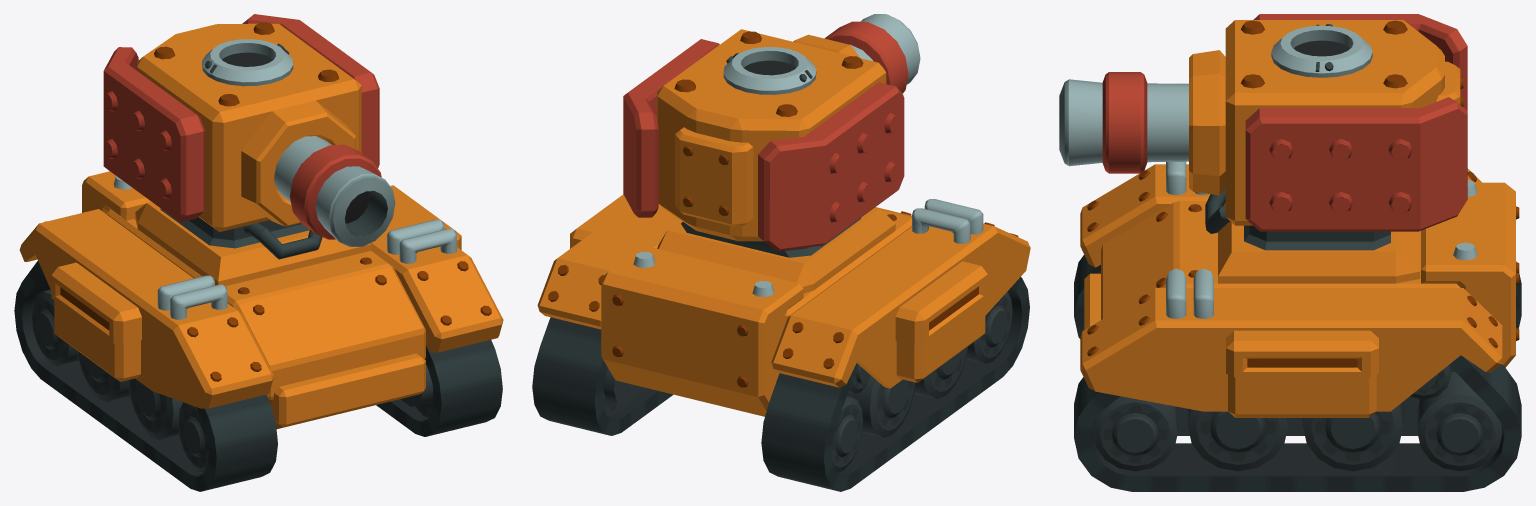
Rendered from TA_Heavy_01.fbx.
3 views of the same model, side by side, from view 1: azimuth 30°, elevation 25°; view 2: azimuth 150°, elevation 25°; view 3: azimuth 270°, elevation 25° (orthographic). The views are drawn at different scales.
Parts seen in each view (by area): view 1: TA_Heavy_01_Wheel_Armor, TA_Heavy_01_Turret_Armor, TA_Heavy_01_Body, TA_Heavy_01_Turret_Cannon, TA_Heavy_01_Wheel_02_R, TA_Heavy_01_Wheel_04_R, TA_Heavy_01_Wheel_01_R, TA_Heavy_01_Wheel_03_R; view 2: TA_Heavy_01_Wheel_Armor, TA_Heavy_01_Turret_Armor, TA_Heavy_01_Body, TA_Heavy_01_Turret_Cannon, TA_Heavy_01_Wheel_03_R, TA_Heavy_01_Wheel_01_R, TA_Heavy_01_Wheel_04_R, TA_Heavy_01_Wheel_02_R; view 3: TA_Heavy_01_Wheel_Armor, TA_Heavy_01_Turret_Armor, TA_Heavy_01_Body, TA_Heavy_01_Turret_Cannon, TA_Heavy_01_Wheel_04_L, TA_Heavy_01_Wheel_01_L, TA_Heavy_01_Wheel_02_L, TA_Heavy_01_Wheel_03_L, TA_Heavy_01_Wheel_05_L.
Part boxes in pixels (x1,y1,x2,y2): TA_Heavy_01_Wheel_Armor: [14, 185, 503, 491]; TA_Heavy_01_Turret_Armor: [103, 14, 379, 232]; TA_Heavy_01_Body: [82, 171, 425, 428]; TA_Heavy_01_Turret_Cannon: [274, 136, 395, 246]; TA_Heavy_01_Wheel_02_R: [128, 378, 182, 440]; TA_Heavy_01_Wheel_04_R: [31, 289, 78, 366]; TA_Heavy_01_Wheel_01_R: [178, 402, 208, 473]; TA_Heavy_01_Wheel_03_R: [77, 350, 129, 402]; TA_Heavy_01_Wheel_Armor: [532, 194, 1030, 491]; TA_Heavy_01_Turret_Armor: [623, 29, 904, 251]; TA_Heavy_01_Body: [601, 207, 911, 416]; TA_Heavy_01_Turret_Cannon: [824, 14, 920, 93]; TA_Heavy_01_Wheel_03_R: [847, 375, 915, 437]; TA_Heavy_01_Wheel_01_R: [966, 291, 1012, 363]; TA_Heavy_01_Wheel_04_R: [831, 396, 863, 472]; TA_Heavy_01_Wheel_02_R: [914, 346, 967, 398]; TA_Heavy_01_Wheel_Armor: [1074, 161, 1521, 491]; TA_Heavy_01_Turret_Armor: [1189, 14, 1467, 231]; TA_Heavy_01_Body: [1084, 180, 1519, 367]; TA_Heavy_01_Turret_Cannon: [1059, 72, 1188, 173]; TA_Heavy_01_Wheel_04_L: [1417, 372, 1502, 471]; TA_Heavy_01_Wheel_01_L: [1093, 396, 1177, 471]; TA_Heavy_01_Wheel_02_L: [1187, 409, 1288, 471]; TA_Heavy_01_Wheel_03_L: [1302, 402, 1403, 471]; TA_Heavy_01_Wheel_05_L: [1410, 365, 1451, 399].
Bounding box in the file's own units: 304 × 280 × 316.
